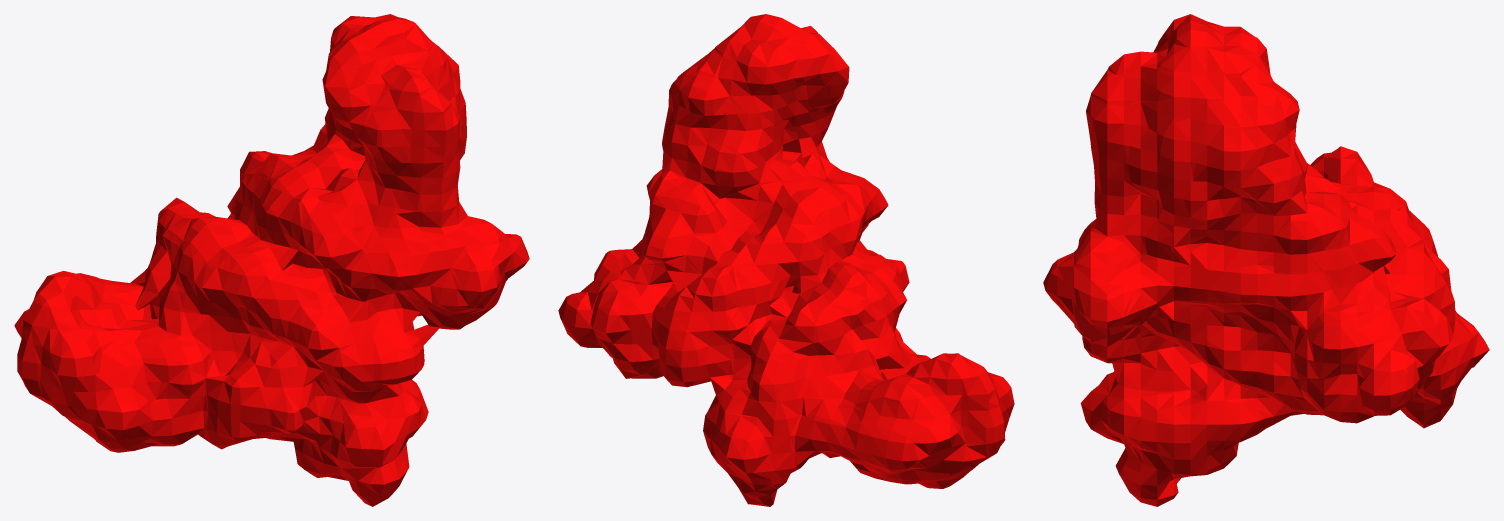
The model's file is rapA_coarse.dae.
3 renders of one model, left to right at view 1: azimuth 30°, elevation 25°; view 2: azimuth 150°, elevation 25°; view 3: azimuth 270°, elevation 25°, orthographic. The views are drawn at different scales.
Visible parts, largest first — view 1: rapA; view 2: rapA; view 3: rapA.
Boxes of the visible parts, x1,y1,x2,y2 form: rapA: (14, 14, 529, 506); rapA: (558, 14, 1014, 506); rapA: (1043, 14, 1489, 506).
Size of the model in its own units: 139 by 139 by 113.
